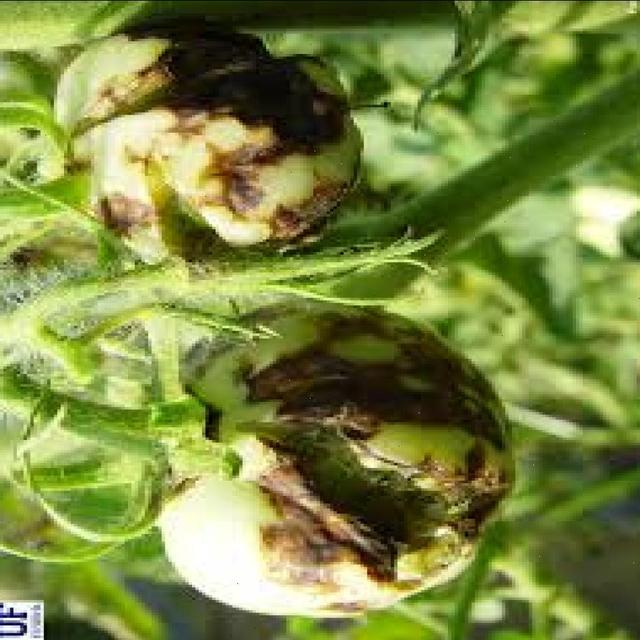Spotted wilt Virus Fruit: (137, 92, 321, 246)
